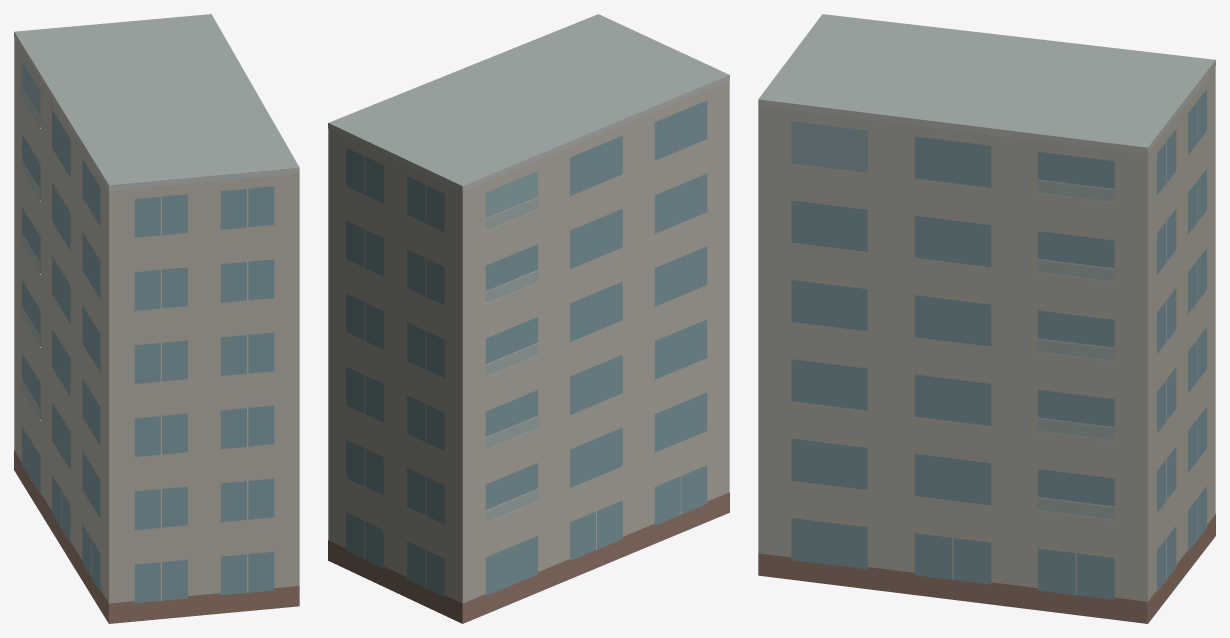
File: survey-upis-32872681.glb
3 renders of one model, left to right at view 1: azimuth 30°, elevation 25°; view 2: azimuth 150°, elevation 25°; view 3: azimuth 270°, elevation 25°, orthographic. The views are drawn at different scales.
Visible parts, largest first — view 1: survey-upis-32872681.tmp; view 2: survey-upis-32872681.tmp; view 3: survey-upis-32872681.tmp.
Boxes of the visible parts, <box> form: survey-upis-32872681.tmp: <box>14,14,299,623</box>; survey-upis-32872681.tmp: <box>328,14,729,623</box>; survey-upis-32872681.tmp: <box>758,14,1215,623</box>.
Bounding box in the file's own units: 11.03 × 18.3 × 15.95.
